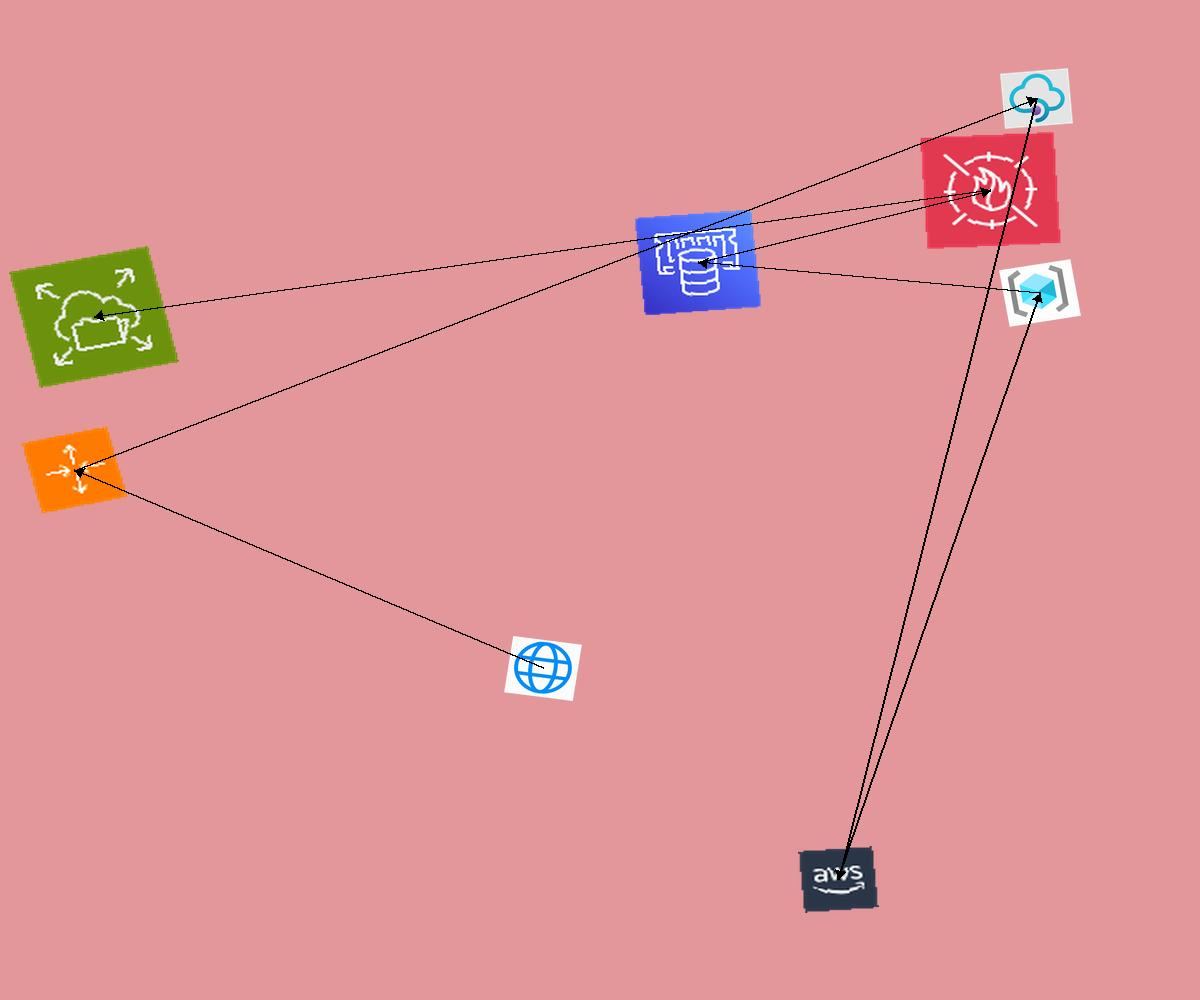AWS-Cloud-logo: (798, 846, 879, 913)
AWS-EFS: (9, 246, 179, 388)
AWS-ElastiCache: (634, 209, 762, 316)
AWS-Scaling-group: (20, 425, 129, 515)
AWS-WAF: (919, 131, 1062, 250)
Azure_api_gateway: (1000, 68, 1073, 129)
Azure_http: (504, 636, 582, 701)
Azure_resource_group: (999, 259, 1081, 327)
